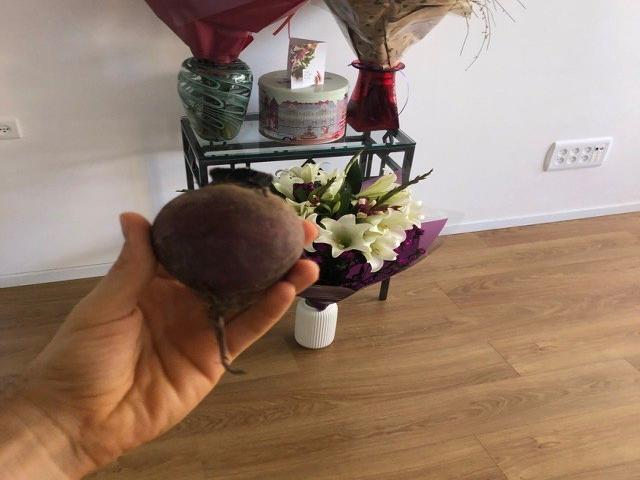beet: (151, 167, 305, 374)
